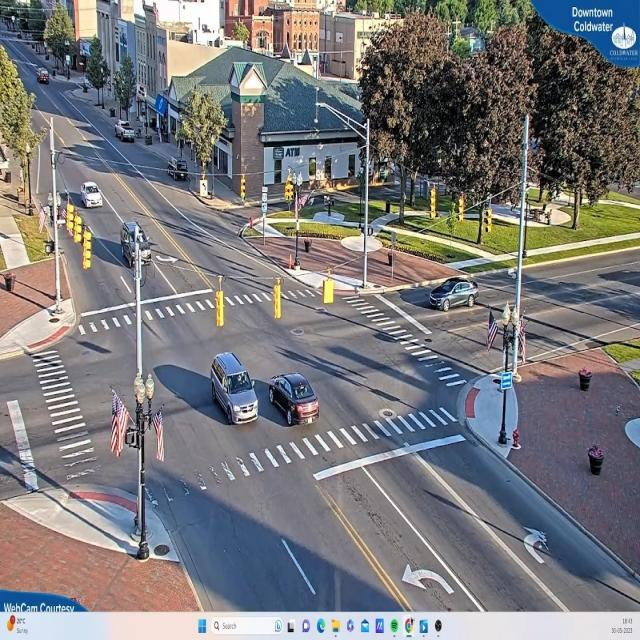car: (210, 354, 258, 426), (268, 374, 319, 426), (117, 216, 154, 272), (429, 279, 480, 309), (81, 184, 102, 210), (117, 122, 137, 145), (39, 69, 51, 83)
